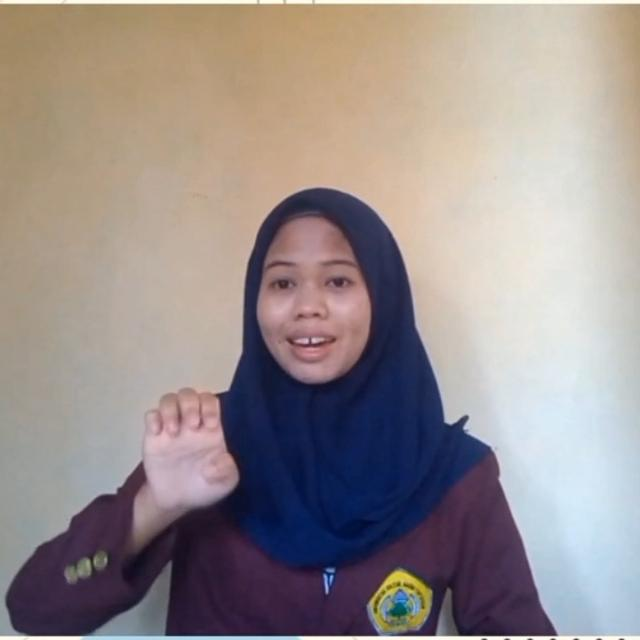E: (143, 385, 239, 507)
